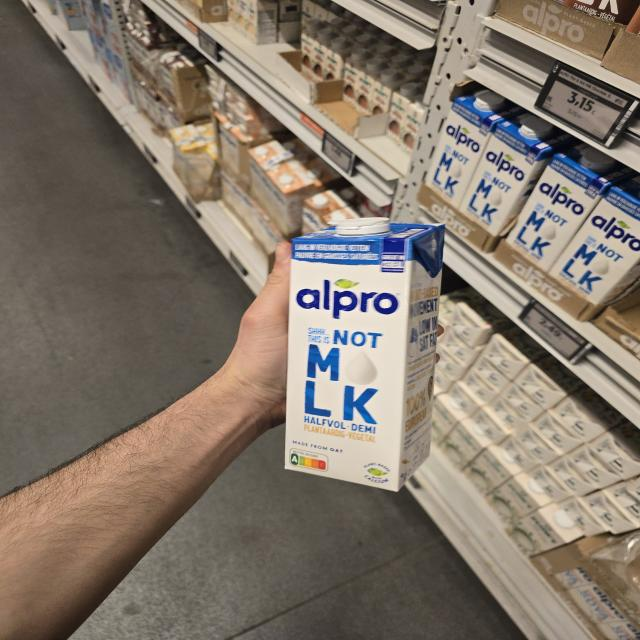Milk: (285, 217, 445, 492), (506, 143, 638, 271), (457, 110, 583, 234), (423, 88, 526, 209), (547, 175, 640, 305)
